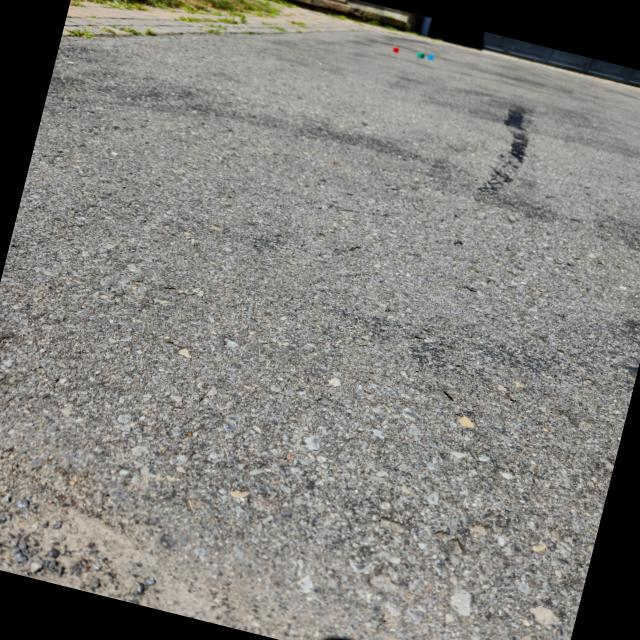bluecube: (426, 54, 434, 60)
green cube: (415, 51, 425, 60)
red cube: (392, 46, 399, 53)
